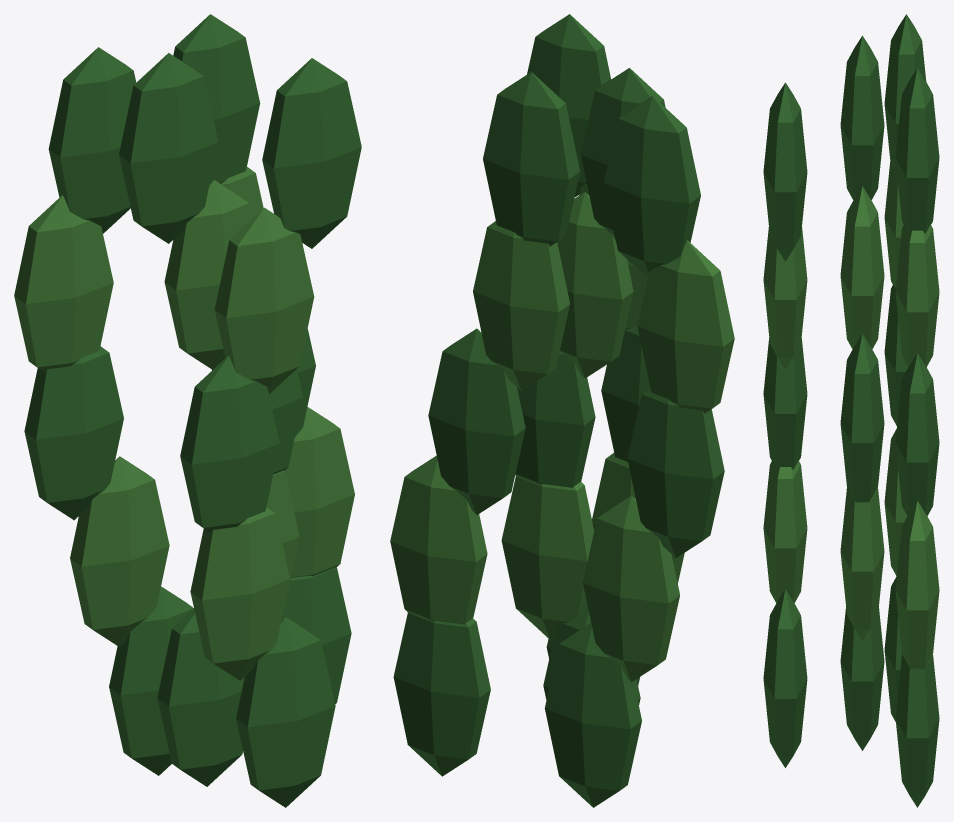
File: fish-seaweed.glb
The picture shows the model from 3 angles, left to right: view 1: azimuth 30°, elevation 25°; view 2: azimuth 150°, elevation 25°; view 3: azimuth 270°, elevation 25°; orthographic projection. The views are drawn at different scales.
Parts seen in each view (by area): view 1: fish-seaweed; view 2: fish-seaweed; view 3: fish-seaweed.
Boxes of the visible parts, bbox=[...] form: fish-seaweed: bbox=[14, 14, 361, 807]; fish-seaweed: bbox=[390, 14, 734, 807]; fish-seaweed: bbox=[763, 14, 939, 807].
Size of the model in its own units: 0.33 by 0.7 by 0.16.
